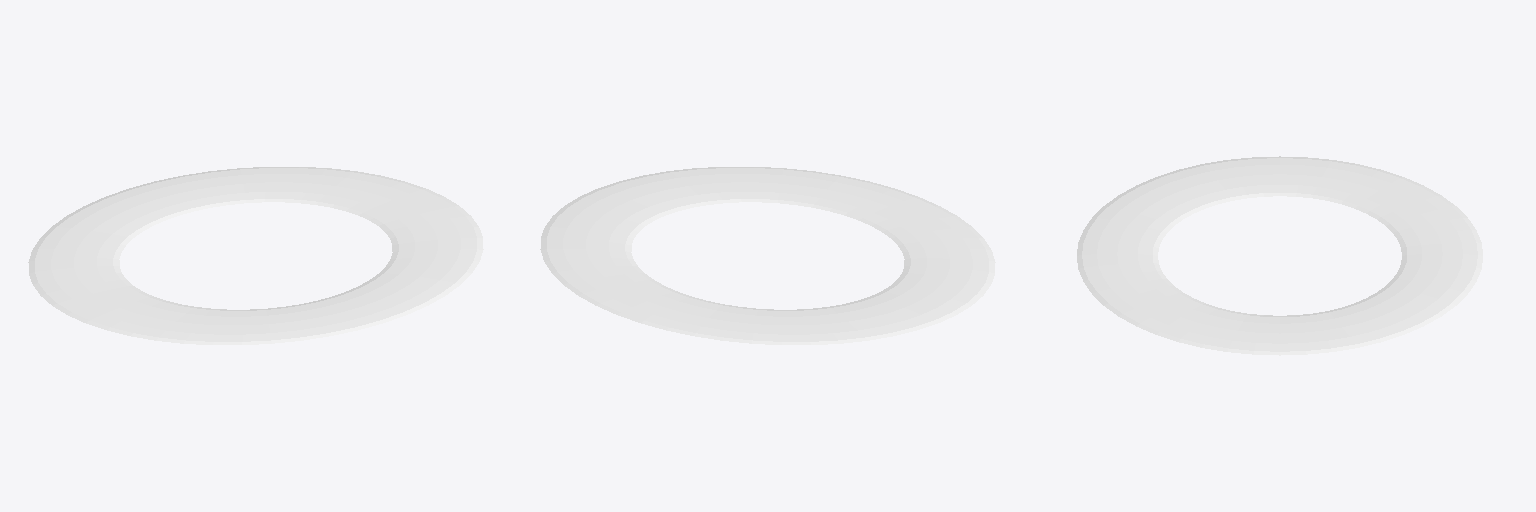
File: street01.obj
The picture shows the model from 3 angles: view 1: azimuth 30°, elevation 25°; view 2: azimuth 150°, elevation 25°; view 3: azimuth 270°, elevation 25°; orthographic projection.
Parts seen in each view (by area): view 1: obj1; view 2: obj1; view 3: obj1.
Boxes of the visible parts, <box> form: obj1: <box>28,167,483,344</box>; obj1: <box>540,167,995,344</box>; obj1: <box>1077,156,1482,355</box>.
Bounding box in the file's own units: 0.512 × 0.005 × 0.4424.